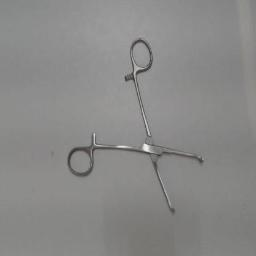Allis Tissue Forceps: (63, 32, 211, 222)
